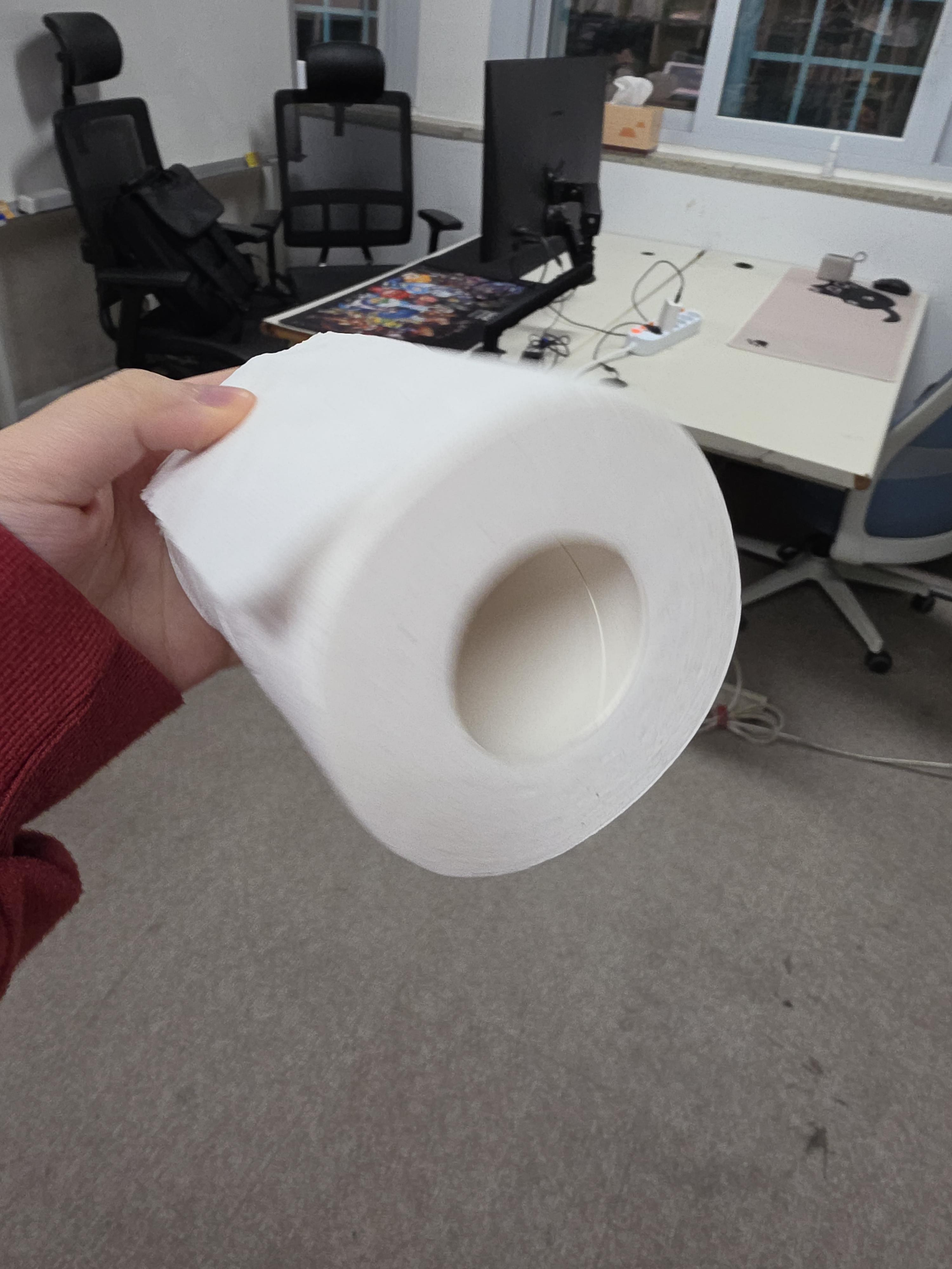tissue: (142, 332, 743, 878), (602, 75, 664, 152)
